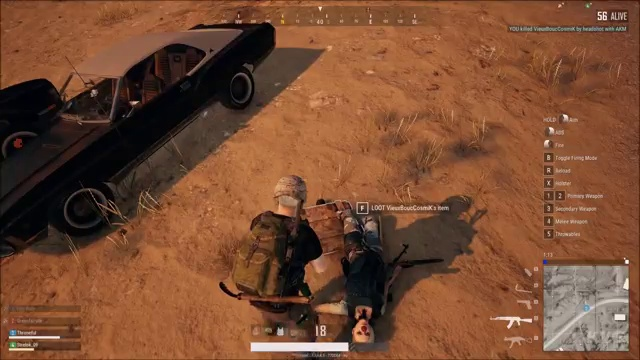Player: (232, 172, 340, 313)
